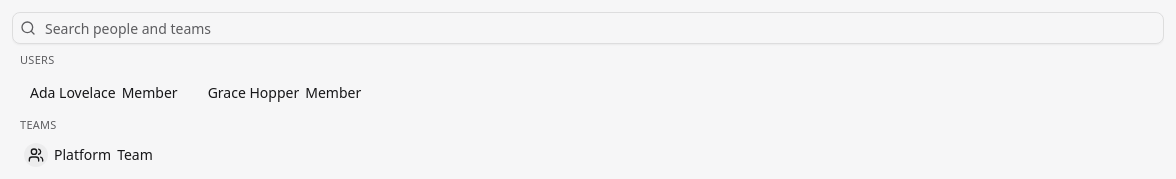
Test: PrincipalPickerList (#107) › filters by name as the user searches
Type "grace" into the field labelled "Search people and teams" at coordinates (588, 28), box [12, 12, 1164, 44]
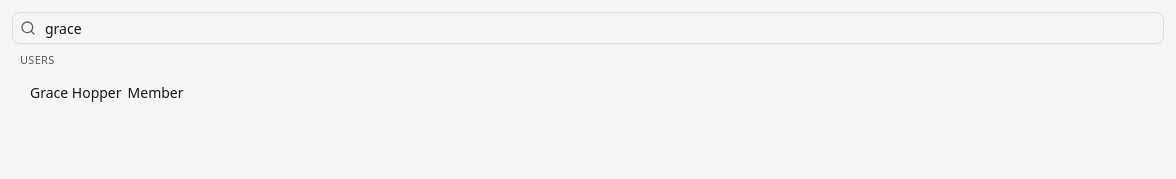
Expected: the button with test id "principal-option-user-user-b" is shown, [12, 76, 196, 108]
Now the button with test id "principal-option-user-user-a" is gone
Now the button with test id "principal-option-team-team-1" is gone
